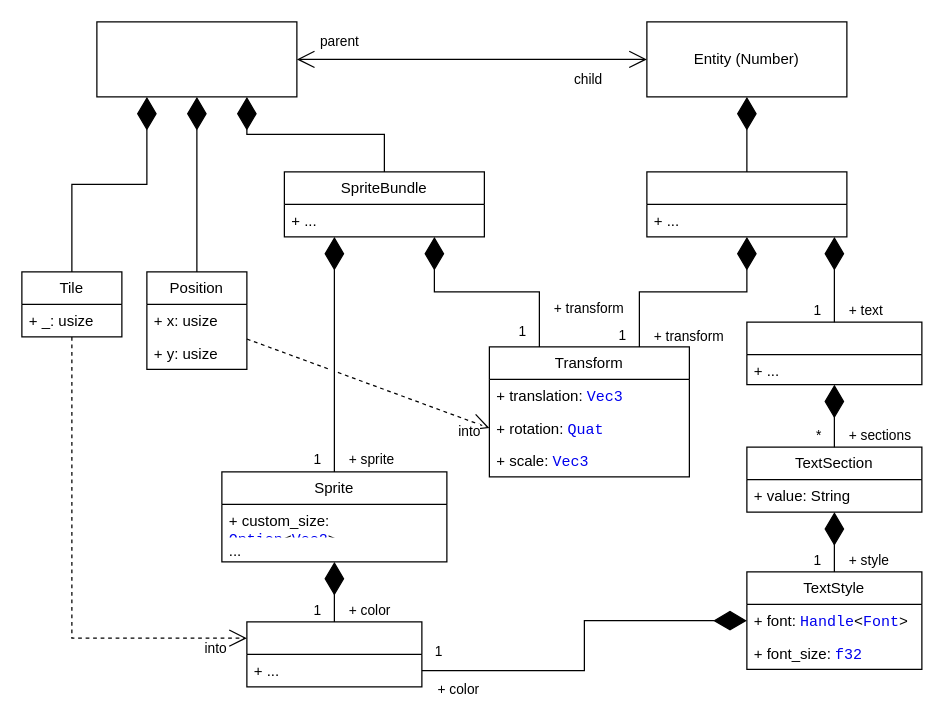
The diagram is 944 pixels wide and 725 high, and some of its shapes have lost their labels. Each missing label, with the box of its shape:
Color: (246, 621, 422, 687)
Entity (Tile): (96, 21, 297, 97)
Text: (746, 321, 922, 385)
Text2dBundle: (646, 171, 847, 237)
